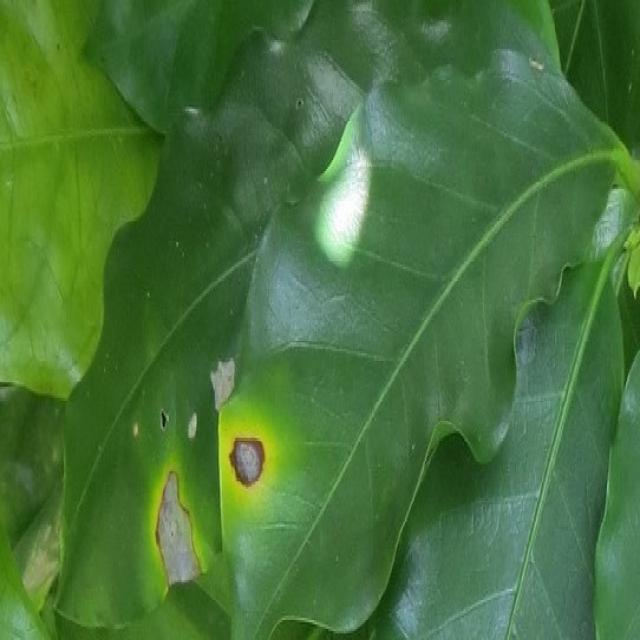Enfermedad-Mancha-de-hierro: (223, 113, 612, 638)
